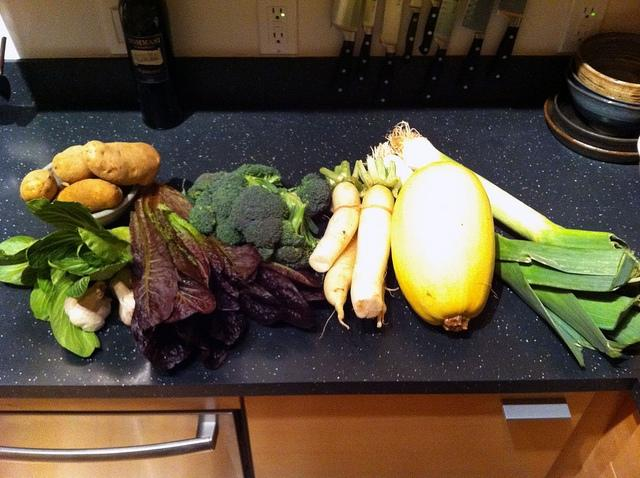broccoli: (228, 185, 290, 259), (189, 171, 249, 244), (295, 174, 332, 218), (280, 200, 308, 248), (231, 164, 283, 186), (187, 181, 211, 200)
garlic: (64, 280, 113, 331), (110, 279, 136, 327)
lettuce: (129, 180, 324, 370), (30, 280, 100, 358), (26, 196, 131, 246), (26, 229, 84, 270), (48, 241, 96, 276), (75, 227, 121, 261), (200, 338, 229, 370), (76, 243, 102, 267), (0, 248, 29, 266), (38, 267, 56, 294)
potato: (81, 140, 161, 186), (58, 178, 124, 213), (51, 145, 100, 183), (20, 169, 58, 202)
